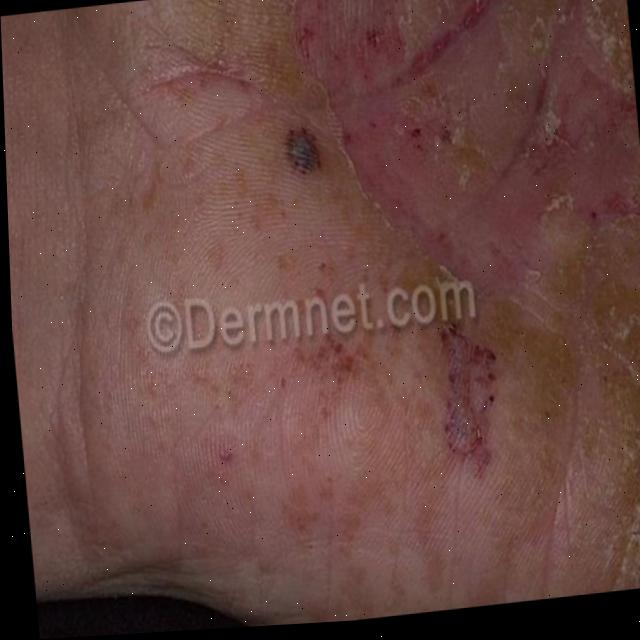Eczema: (211, 55, 640, 554)
